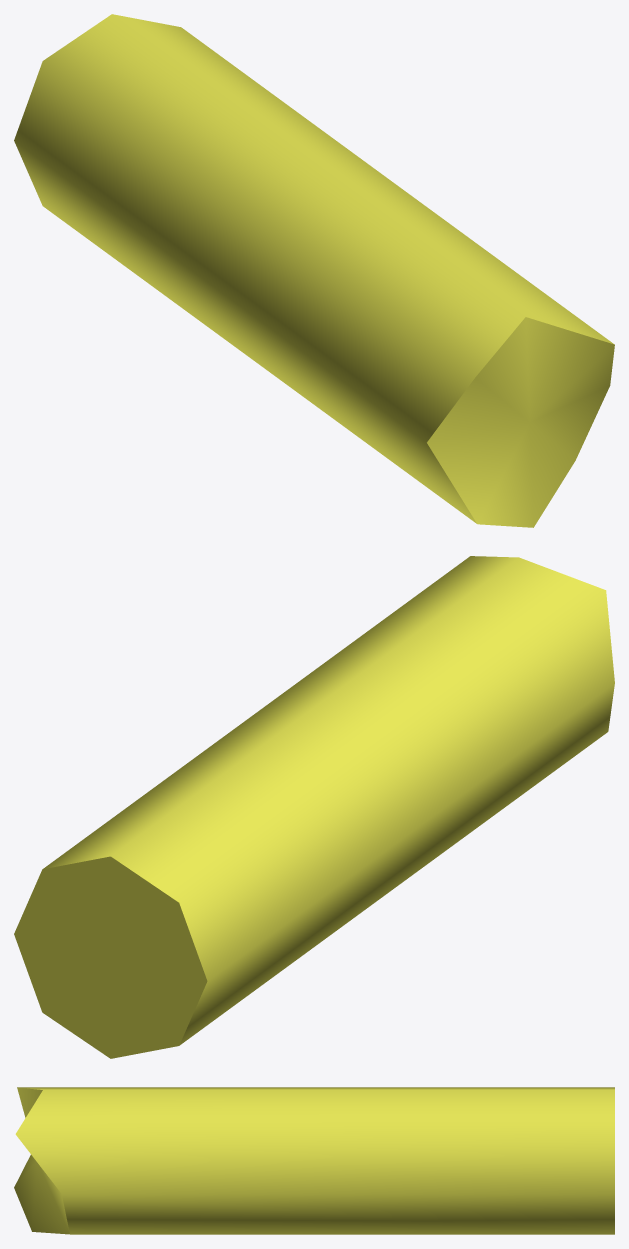
The model's file is Tiza Rota 1.fbx.
3 renders of one model, top to bottom at view 1: azimuth 30°, elevation 25°; view 2: azimuth 150°, elevation 25°; view 3: azimuth 270°, elevation 25°, orthographic. The views are drawn at different scales.
Parts seen in each view (by area): view 1: Tiza_Rota_1; view 2: Tiza_Rota_1; view 3: Tiza_Rota_1.
Boxes of the visible parts, x1,y1,x2,y2 form: Tiza_Rota_1: (14,14,614,527); Tiza_Rota_1: (14,556,614,1058); Tiza_Rota_1: (14,1087,614,1234).
Bounding box in the file's own units: 0.02 × 0.02 × 0.0768.
